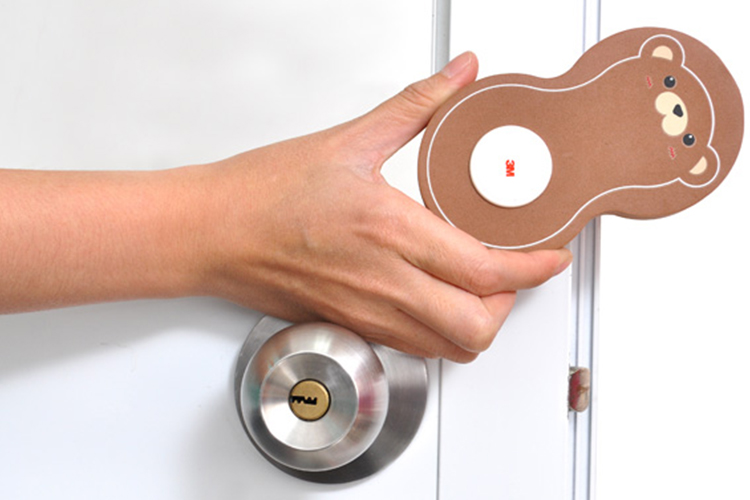3M: (501, 150, 523, 183)
